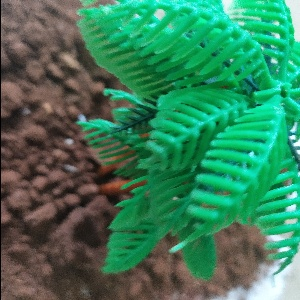plant: (68, 9, 293, 273)
